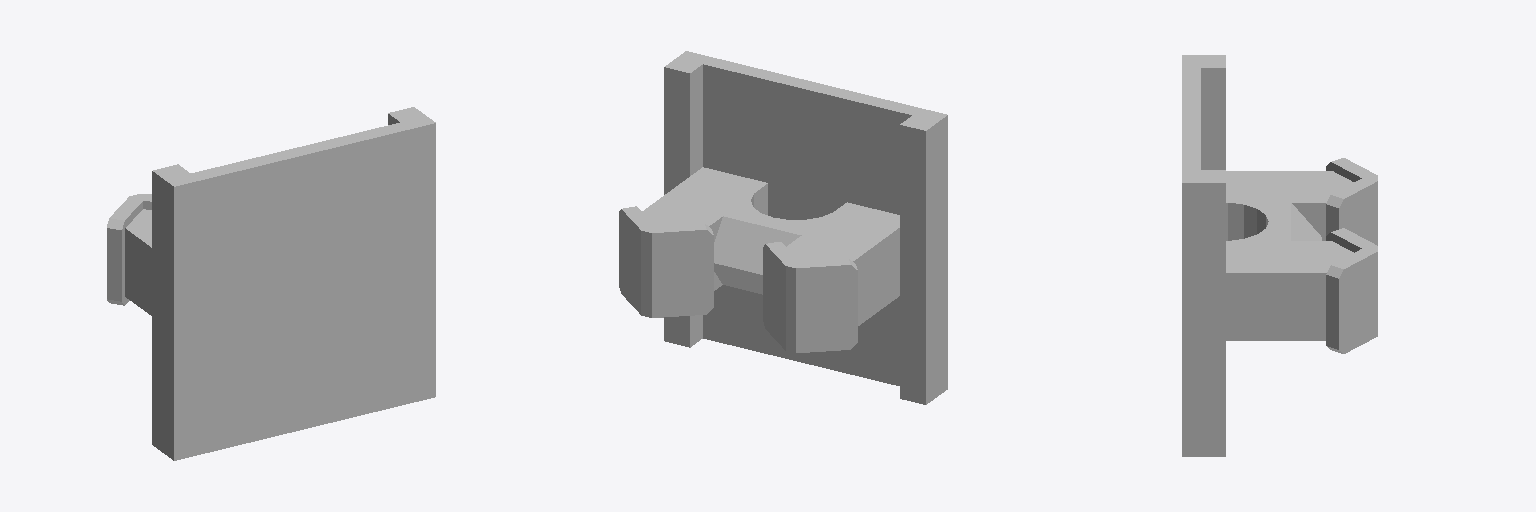
The model's file is castle.020.obj.
3 views of the same model, side by side, from view 1: azimuth 30°, elevation 25°; view 2: azimuth 150°, elevation 25°; view 3: azimuth 270°, elevation 25° (orthographic).
Visible parts, largest first — view 1: castle.017; view 2: castle.017; view 3: castle.017.
Part boxes in pixels (bbox=[...]): castle.017: bbox=[107, 107, 435, 460]; castle.017: bbox=[619, 51, 947, 404]; castle.017: bbox=[1182, 55, 1377, 456].
Bounding box in the file's own units: 0.9999 × 0.9999 × 0.651.